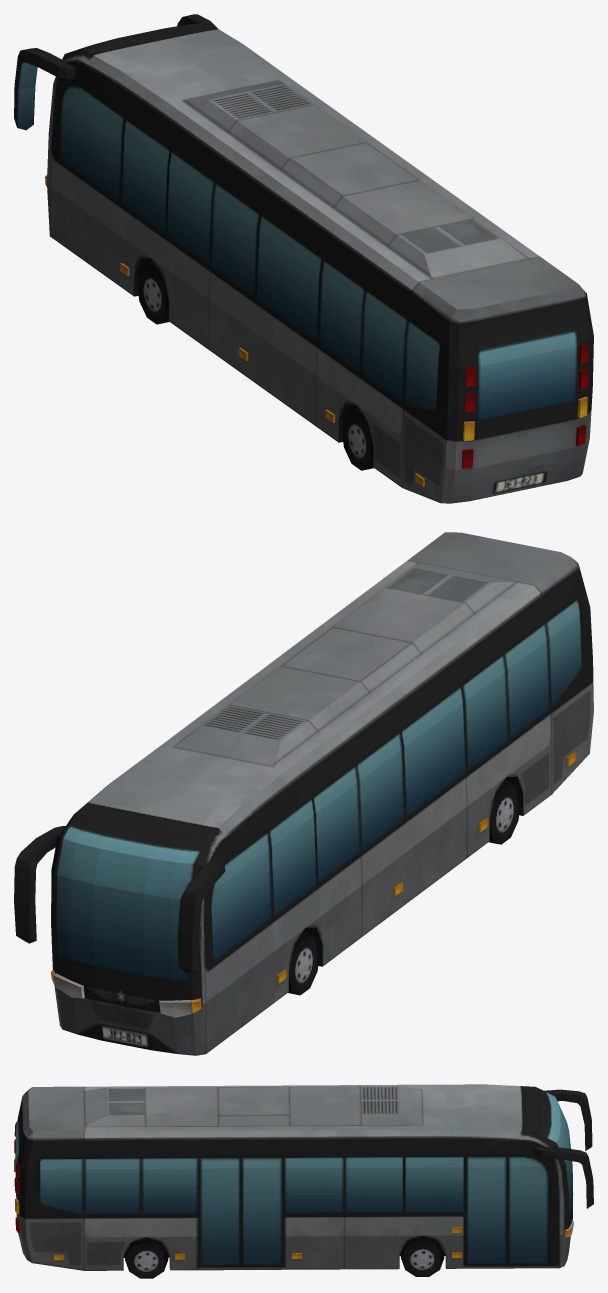
The model's file is bus02_anim.001_lev3.glb.
The picture shows the model from 3 angles, top to bottom: view 1: azimuth 30°, elevation 25°; view 2: azimuth 150°, elevation 25°; view 3: azimuth 270°, elevation 25°; orthographic projection. The views are drawn at different scales.
Visible parts, largest first — view 1: bus02_anim.001_lev3; view 2: bus02_anim.001_lev3; view 3: bus02_anim.001_lev3.
Boxes of the visible parts, left/top/right/bottom form: bus02_anim.001_lev3: left=14, top=14, right=593, bottom=503; bus02_anim.001_lev3: left=14, top=532, right=593, bottom=1055; bus02_anim.001_lev3: left=14, top=1084, right=593, bottom=1278.
Bounding box in the file's own units: 8.92 × 10.89 × 36.28.
Materials: 1 (1 with a texture image).
